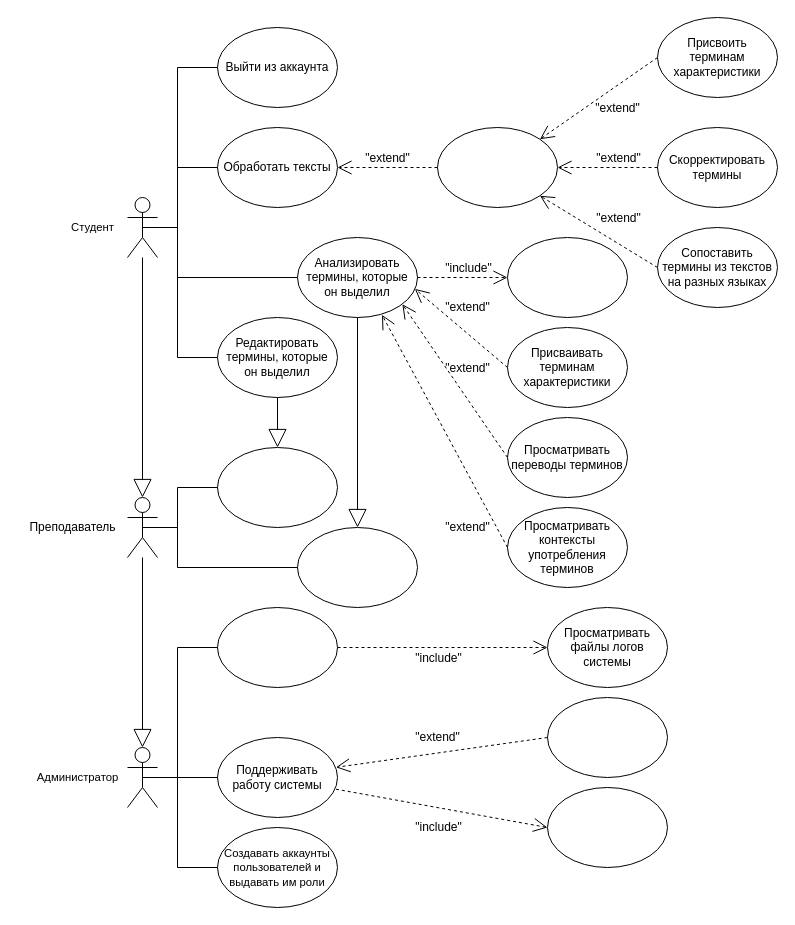
Image size: 795x925. Some labels were removed from this diagram. Here are the shapes that lost their labels. From the top down, the centre of each, then its label:
the point at 497,167: Сохранить термины
the point at 567,277: Искать термины по заданным характеристикам
the point at 277,487: Редактировать все термины в базе данных
the point at 357,567: Анализировать все термины в базе данных
the point at 277,647: Анализировать состояние системы
the point at 607,737: Конфигурировать базу данных
the point at 607,827: Делать резервное копирование данных
